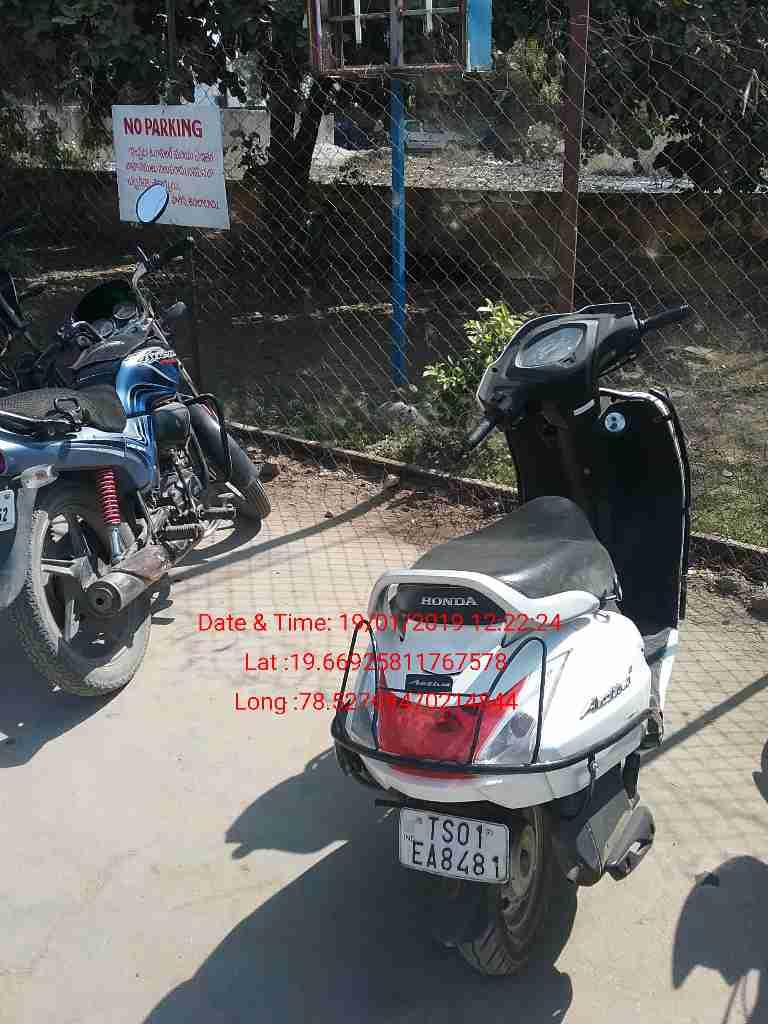plate: (399, 807, 518, 892)
